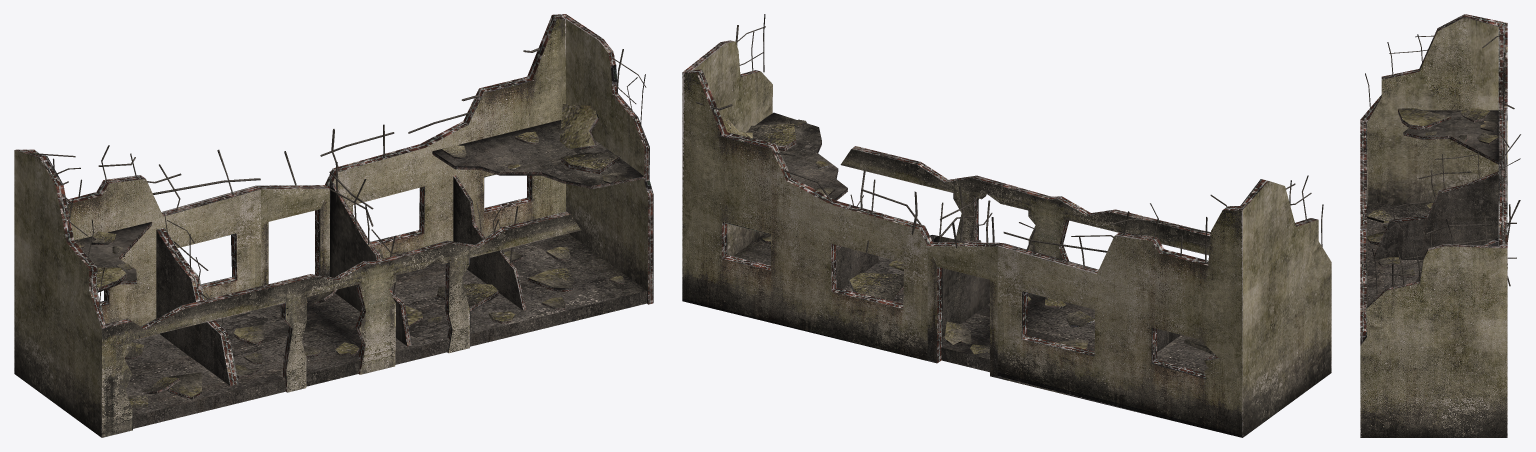
Rendered from buildings_17_ruin.FBX.
3 renders of one model, left to right at view 1: azimuth 30°, elevation 25°; view 2: azimuth 150°, elevation 25°; view 3: azimuth 270°, elevation 25°, orthographic. The views are drawn at different scales.
Parts seen in each view (by area): view 1: Cone001; view 2: Cone001; view 3: Cone001.
Part boxes in pixels (x1=…): Cone001: x1=14, y1=14, x2=653, y2=437; Cone001: x1=682, y1=14, x2=1331, y2=437; Cone001: x1=1360, y1=14, x2=1520, y2=437.
Size of the model in its own units: 1839 by 549 by 741.
1 material, 1 textured.
